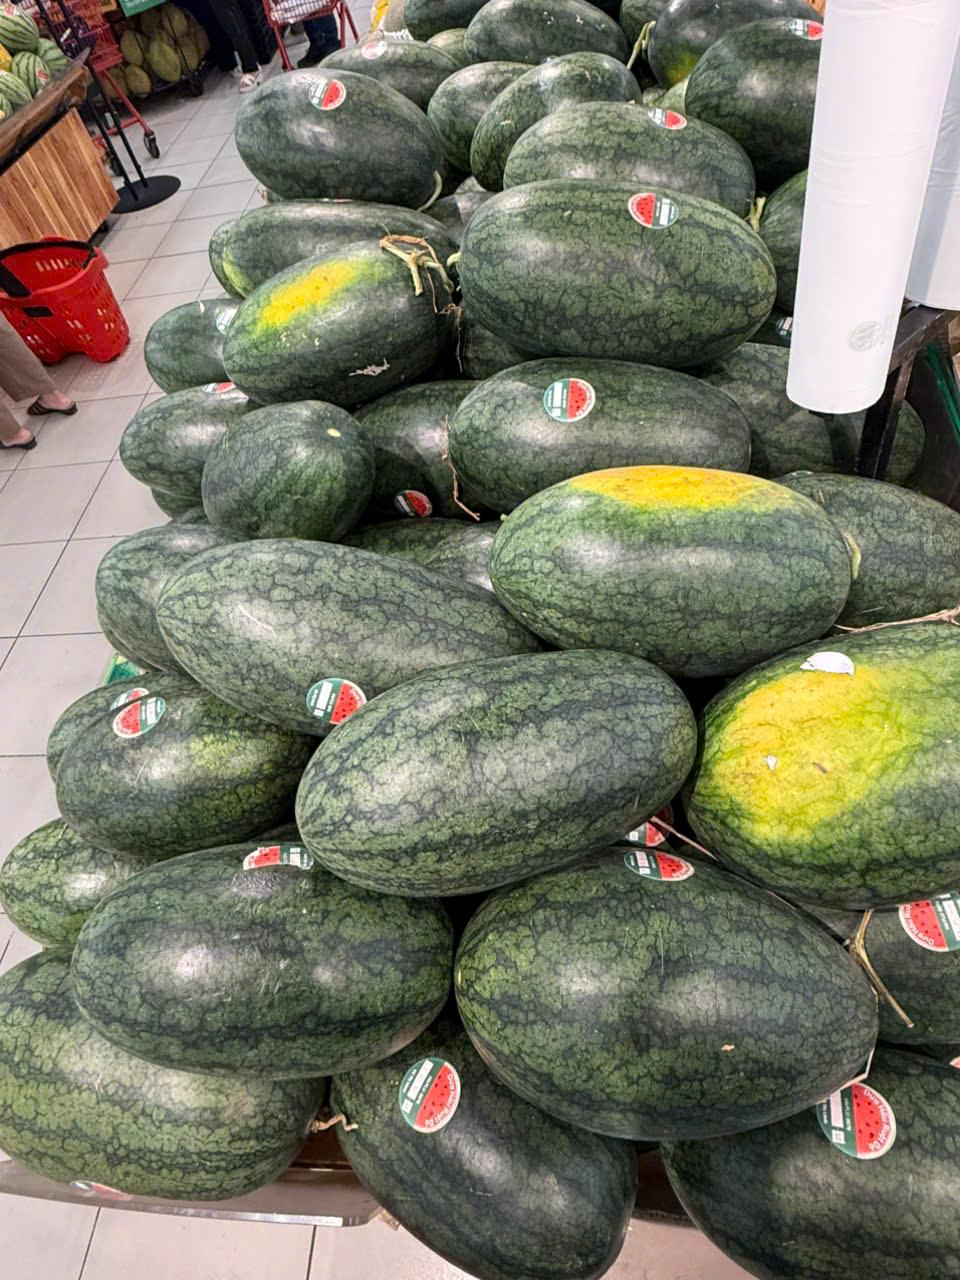watermelon: (450, 856, 879, 1124), (277, 655, 680, 882), (301, 1008, 633, 1280), (63, 846, 458, 1056), (480, 463, 856, 662), (665, 1040, 960, 1280), (680, 630, 960, 881), (165, 525, 508, 726), (458, 185, 773, 364), (440, 351, 753, 476), (210, 234, 458, 376), (233, 71, 442, 216), (500, 101, 759, 210), (198, 405, 374, 532)
